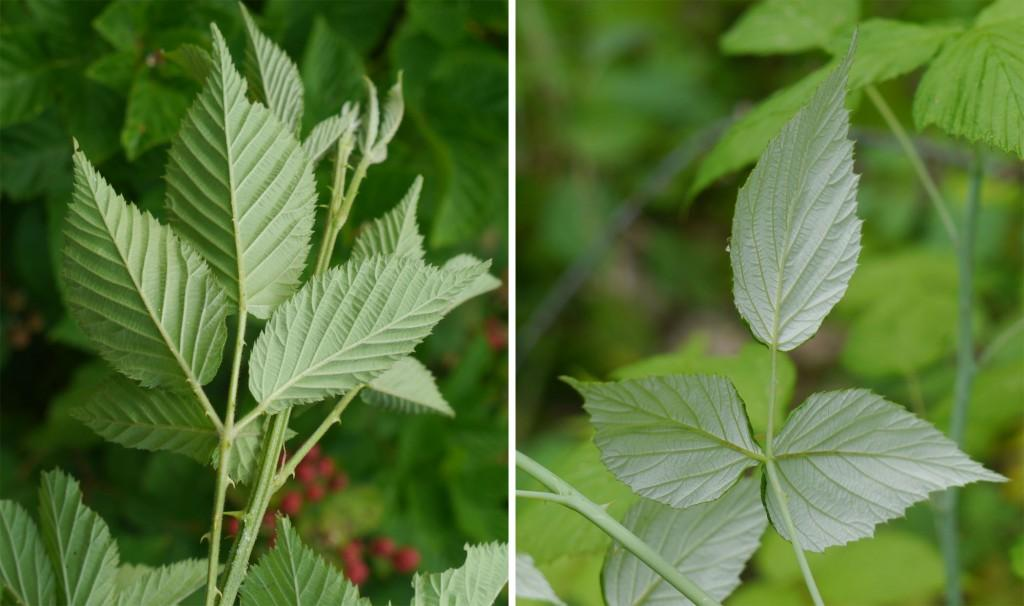Raspberry leaf: (727, 18, 868, 350), (167, 25, 325, 321), (757, 381, 1011, 557), (65, 141, 235, 394), (248, 252, 496, 419), (558, 357, 750, 518)
